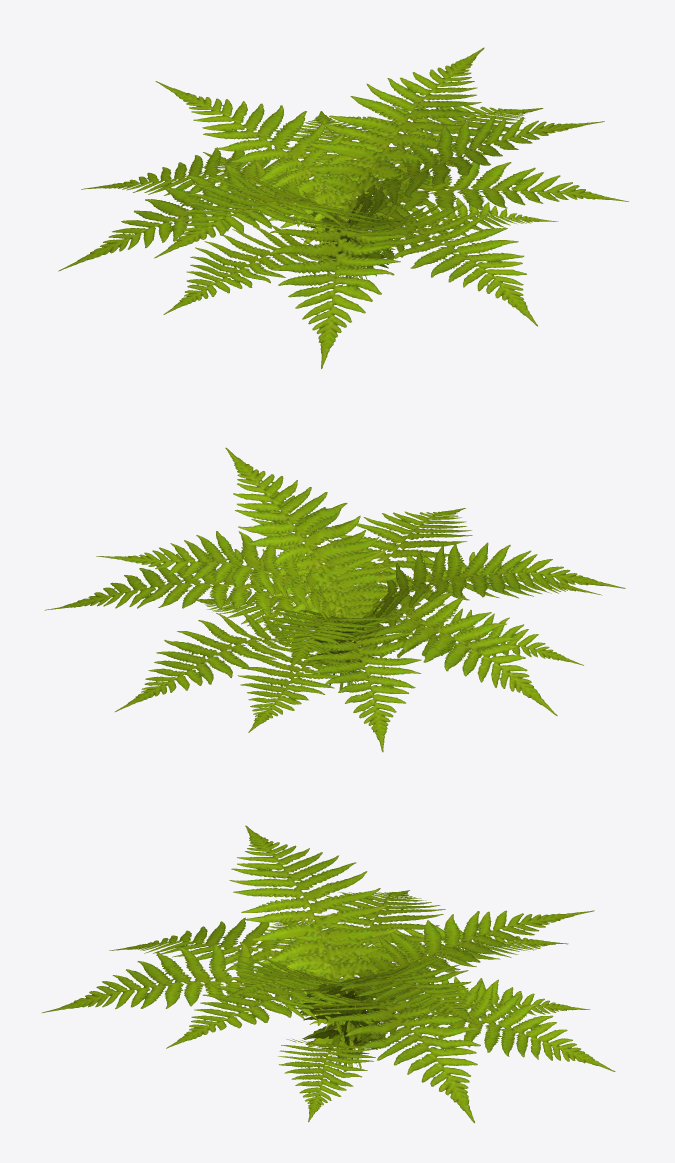
Rendered from fern-sword.lod0.glb.
3 views of the same model, one above another, from view 1: azimuth 30°, elevation 25°; view 2: azimuth 150°, elevation 25°; view 3: azimuth 270°, elevation 25° (orthographic). The views are drawn at different scales.
Parts seen in each view (by area): view 1: Object_4; view 2: Object_4; view 3: Object_4.
Boxes of the visible parts, <box> form: Object_4: <box>58,47,628,368</box>; Object_4: <box>44,447,625,752</box>; Object_4: <box>42,825,615,1123</box>.
Bounding box in the file's own units: 2.83 × 0.7948 × 2.74.
Materials: 1 (1 with a texture image).
